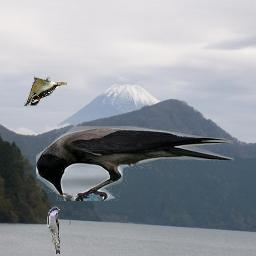Crow: (36, 127, 234, 202)
Swallow: (48, 206, 61, 254)
Woodpecker: (25, 77, 68, 108)
